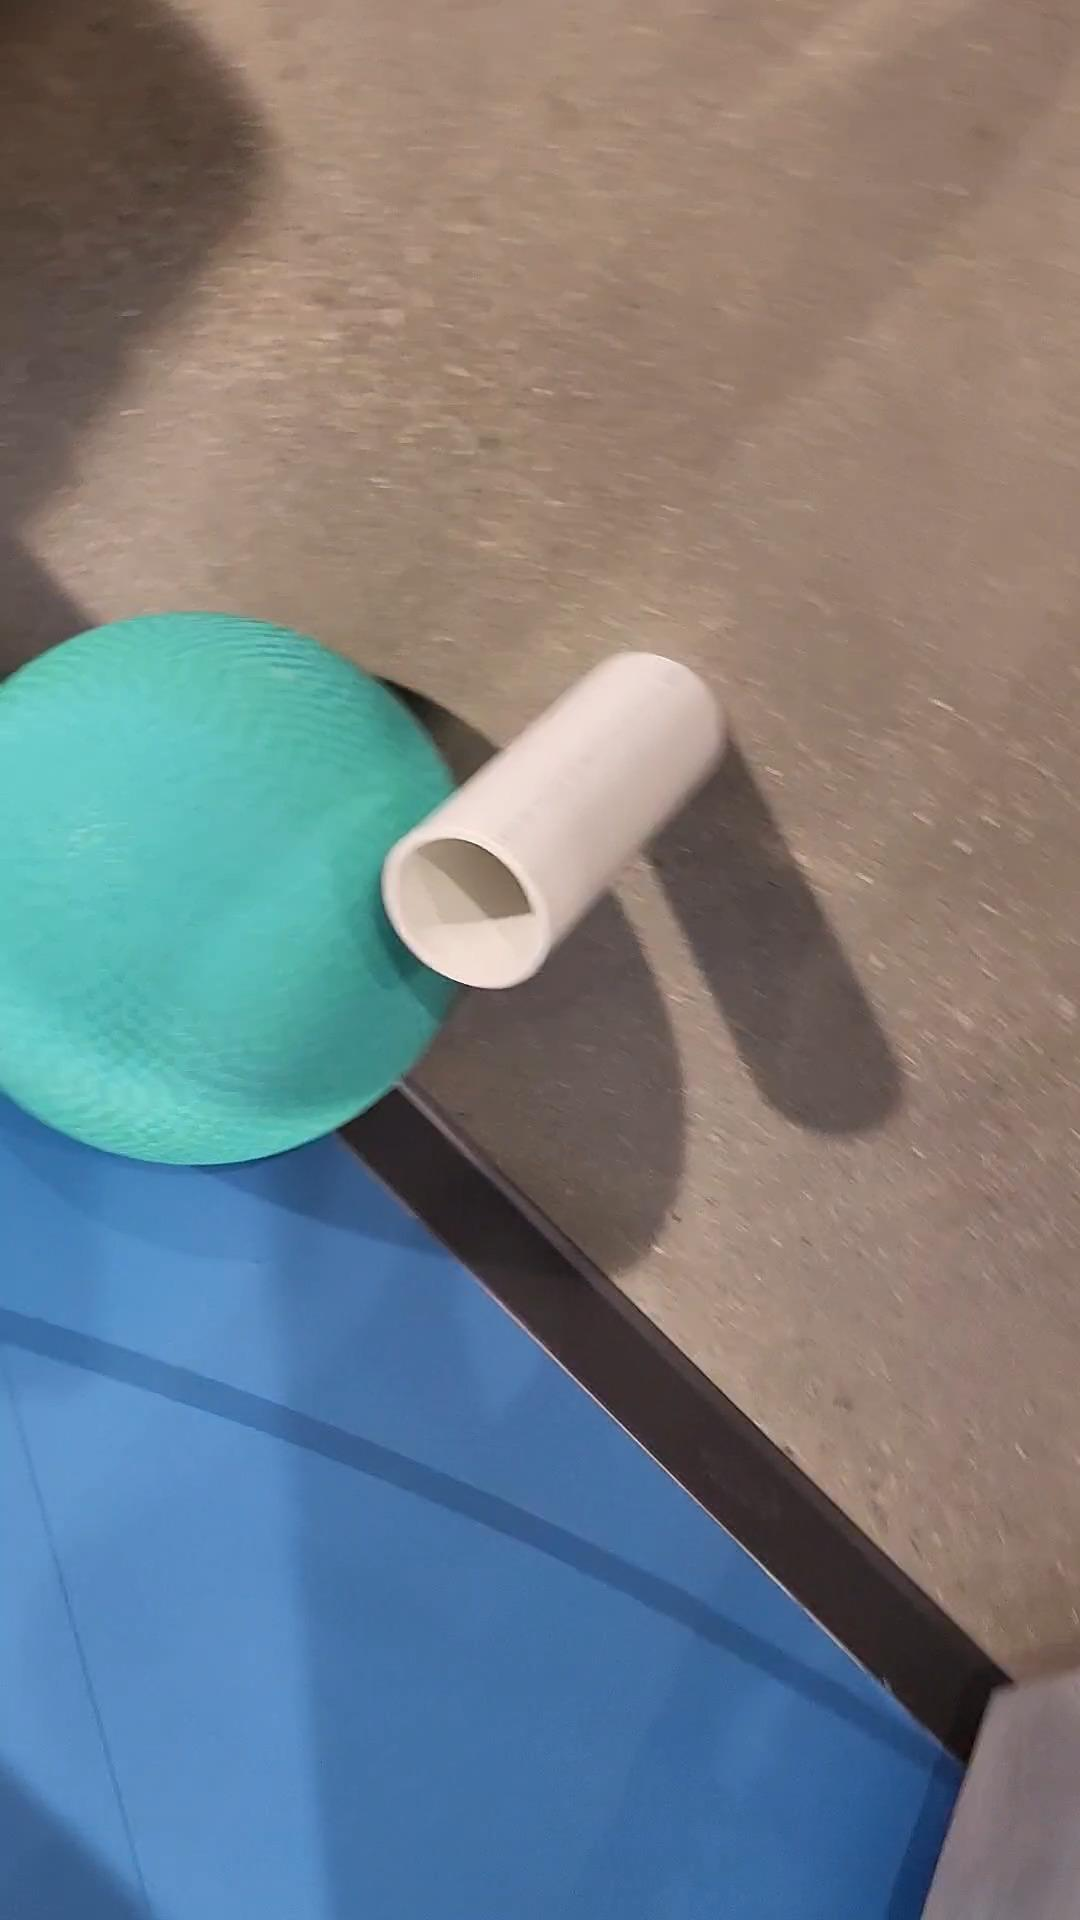algae: (0, 615, 463, 1167)
coral: (382, 653, 723, 985)
